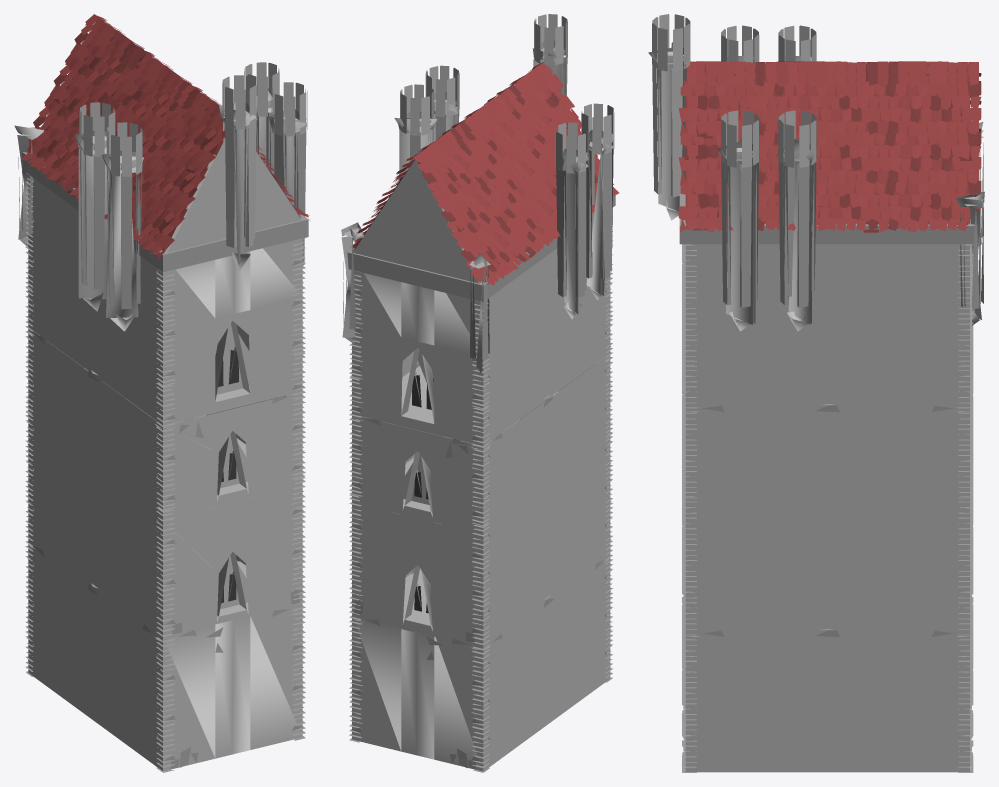
File: bld-keep.glb
3 views of the same model, side by side, from view 1: azimuth 30°, elevation 25°; view 2: azimuth 150°, elevation 25°; view 3: azimuth 270°, elevation 25° (orthographic). The views are drawn at different scales.
Visible parts, largest first — view 1: Object094; view 2: Object094; view 3: Object094.
Boxes of the visible parts, x1=… form: Object094: x1=14, y1=14, x2=309, y2=772; Object094: x1=341, y1=14, x2=619, y2=772; Object094: x1=648, y1=14, x2=984, y2=772.
Size of the model in its own units: 11.6 by 38.08 by 16.27.
